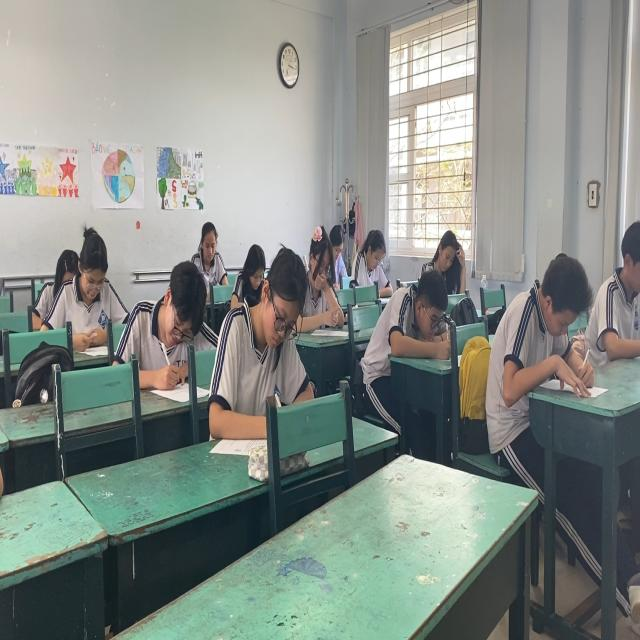not_cheating: (486, 258, 587, 388), (37, 226, 132, 361), (241, 247, 307, 427), (127, 261, 210, 361), (370, 272, 459, 354), (296, 216, 335, 330), (350, 226, 392, 302), (189, 212, 229, 288), (418, 219, 469, 278), (234, 237, 263, 288)
